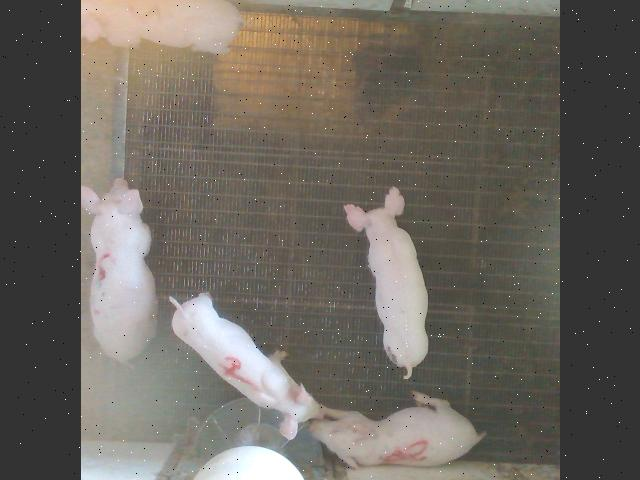pig-2: (81, 0, 241, 54)
pig-3: (81, 179, 155, 362)
pig-4: (169, 294, 319, 439)
pig-5: (309, 392, 484, 468)
